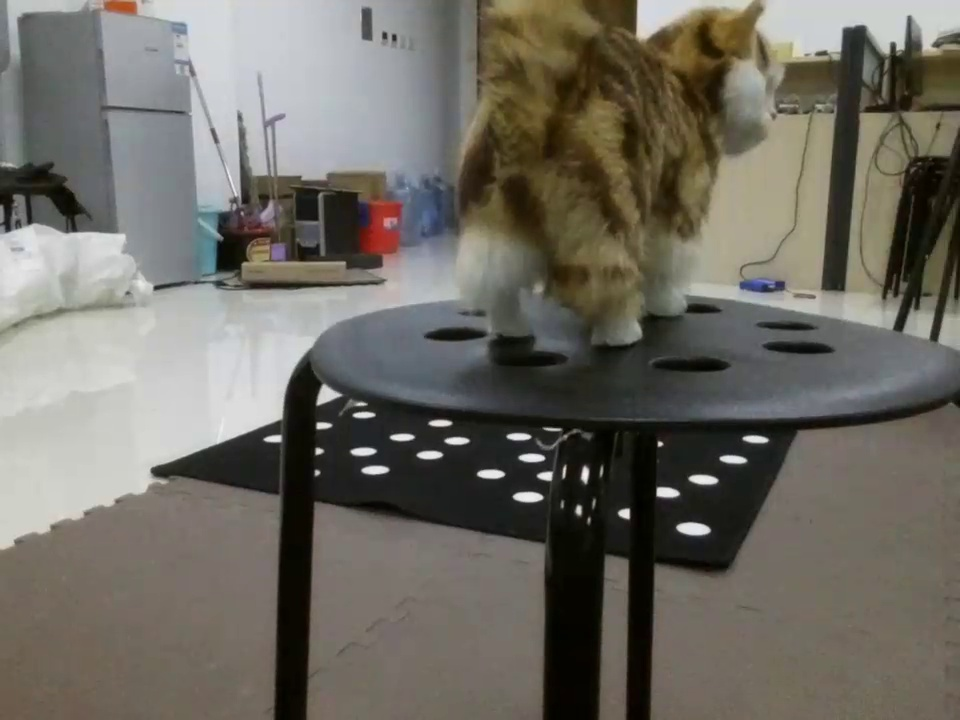cat: (399, 5, 837, 369)
